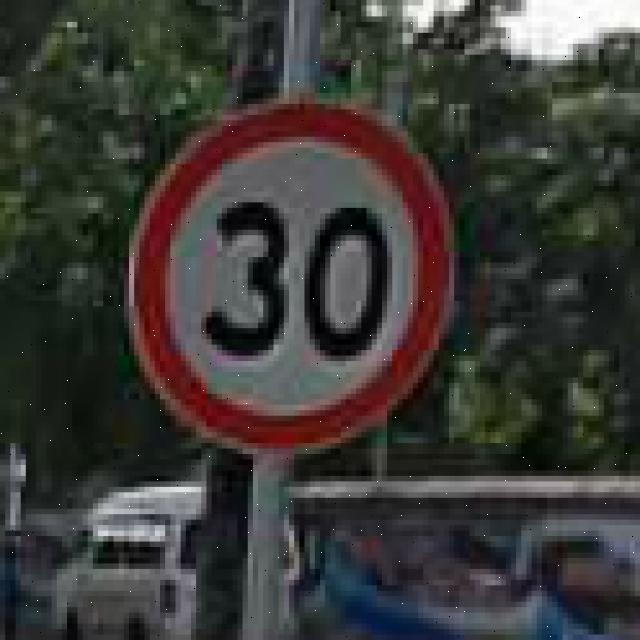speed limit 30: (125, 102, 449, 455)
